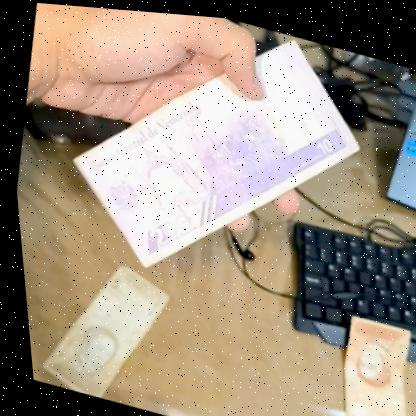five-front-vef: (22, 242, 177, 413)
ten-back-vef: (37, 2, 389, 319)
twenty-front-vef: (317, 306, 416, 416)
